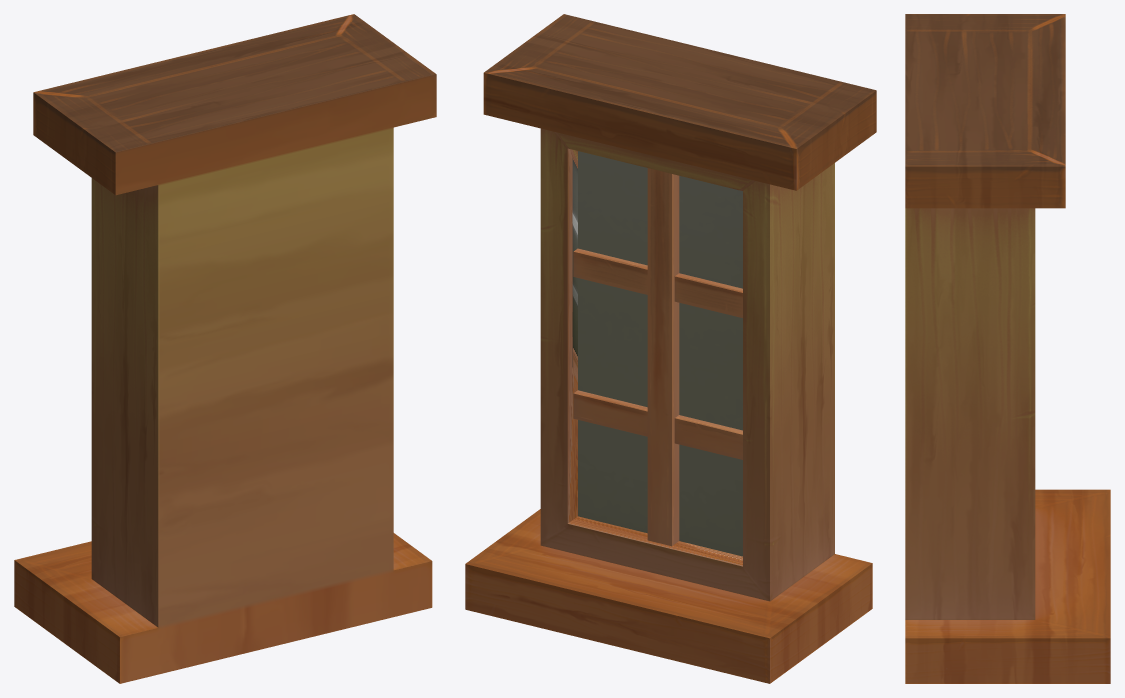
The model's file is Window_B_01.fbx.
3 renders of one model, left to right at view 1: azimuth 30°, elevation 25°; view 2: azimuth 150°, elevation 25°; view 3: azimuth 270°, elevation 25°, orthographic. The views are drawn at different scales.
Parts seen in each view (by area): view 1: Window_B_01; view 2: Window_B_01; view 3: Window_B_01.
Boxes of the visible parts, x1,y1,x2,y2 form: Window_B_01: (14, 14, 436, 683); Window_B_01: (465, 14, 876, 683); Window_B_01: (905, 14, 1110, 683).
Bounding box in the file's own units: 196 × 310 × 111.
Materials: 2 (2 with a texture image).
